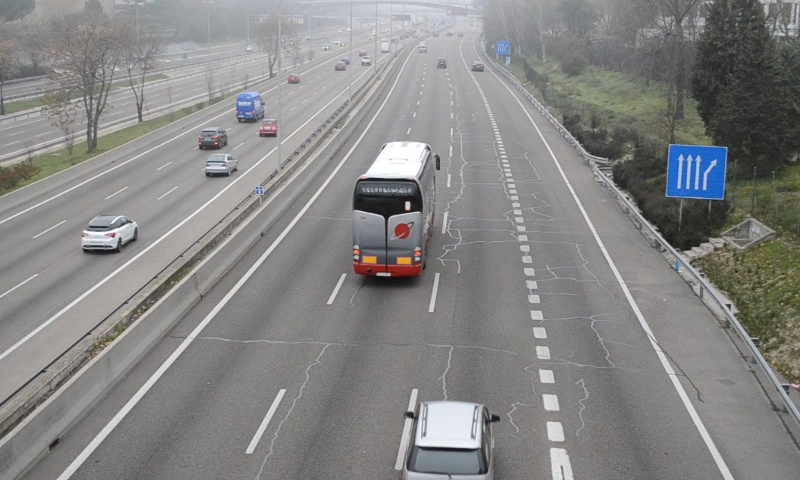bus: (352, 140, 435, 280)
car: (402, 402, 499, 479), (470, 60, 485, 72)
